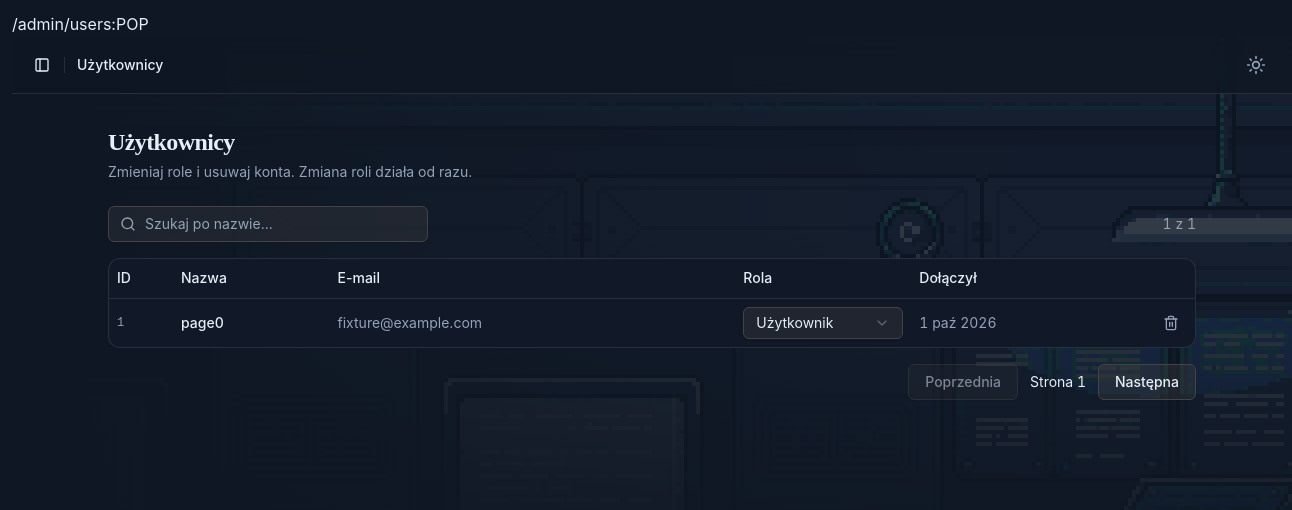
Test: admin dashboard › pages users on the server and resets to the first page after searching
Check: the text "page0" is shown, box [173,299,330,347]
Check: the button "Poprzednia" is disabled, box [908,364,1018,400]
Click the button "Następna" at (1147, 382), box [1098,364,1196,400]
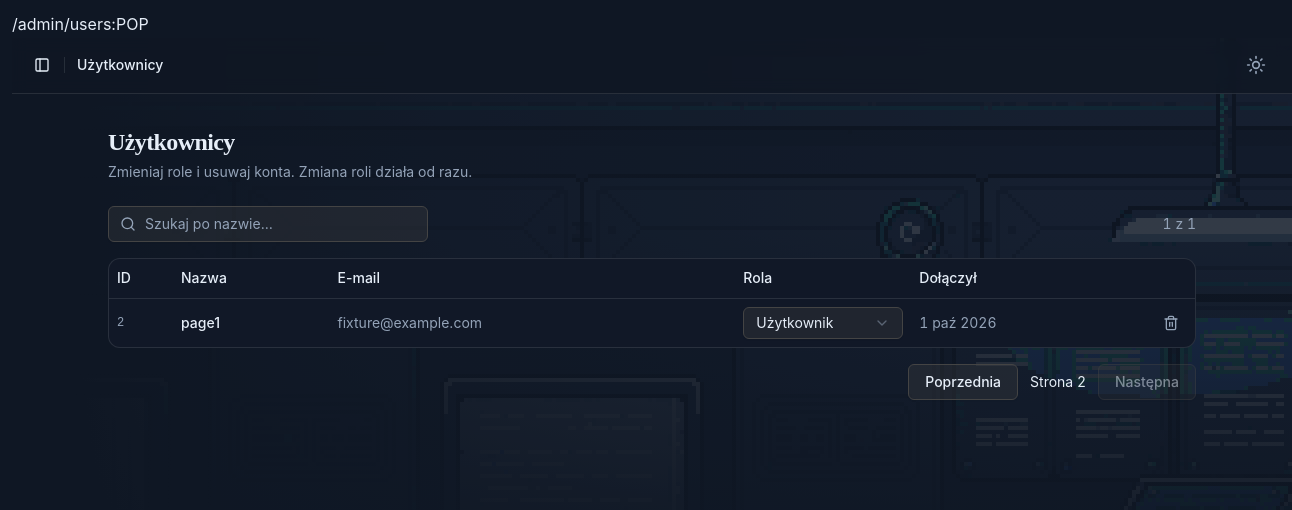
Check: the text "page1" is shown, box [173,299,330,347]
Check: the button "Następna" is disabled, box [1098,364,1196,400]
Type "selected" into the field named "Szukaj użytkownika" at (268, 224), box [108,206,428,242]
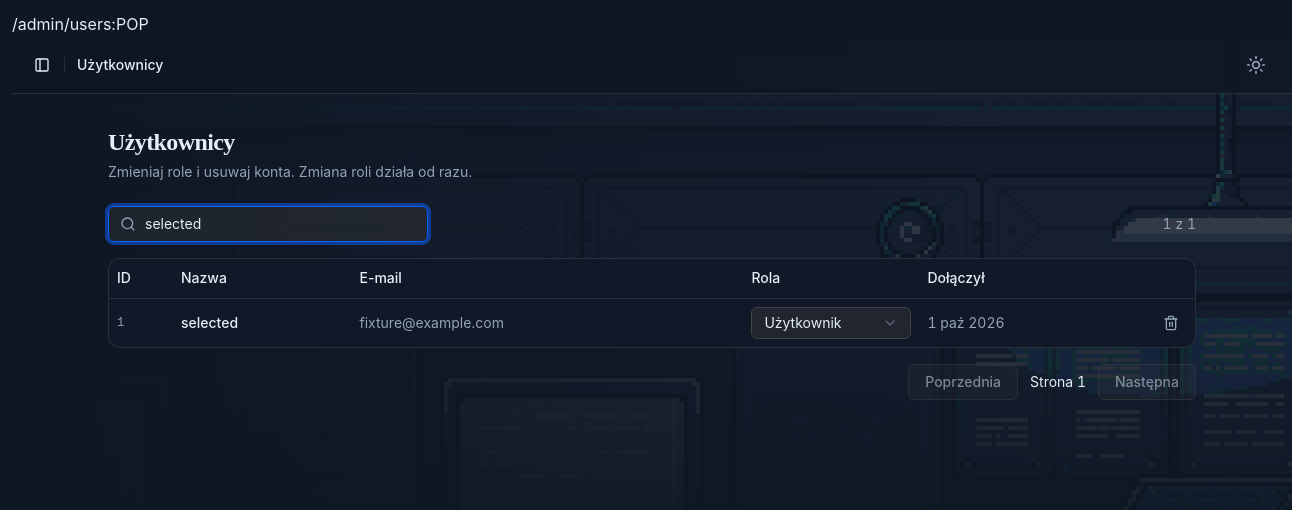
Check: the text "selected" is shown, box [173,299,352,347]
